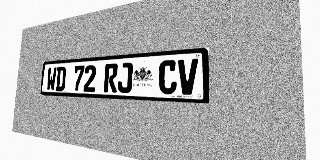2: (83, 65, 96, 92)
7: (72, 65, 85, 92)
C: (158, 60, 177, 94)
D: (55, 66, 66, 91)
J: (117, 62, 133, 93)
R: (104, 63, 118, 93)
V: (177, 58, 198, 95)
W: (46, 67, 57, 91)
